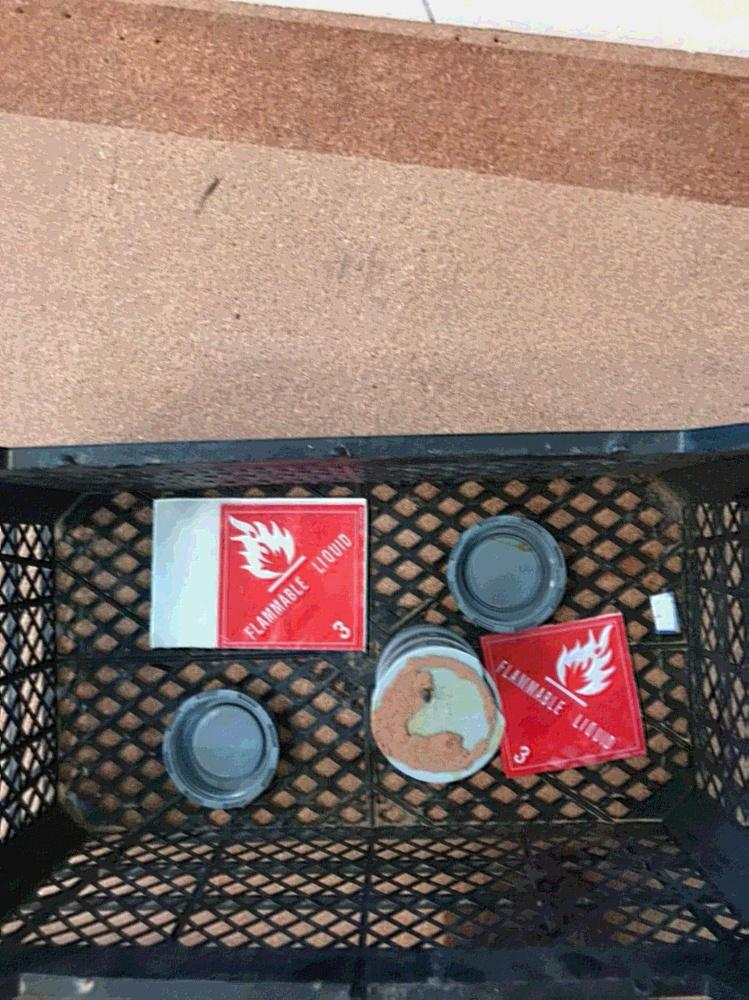flammable: (480, 612, 655, 780), (223, 502, 365, 651)
